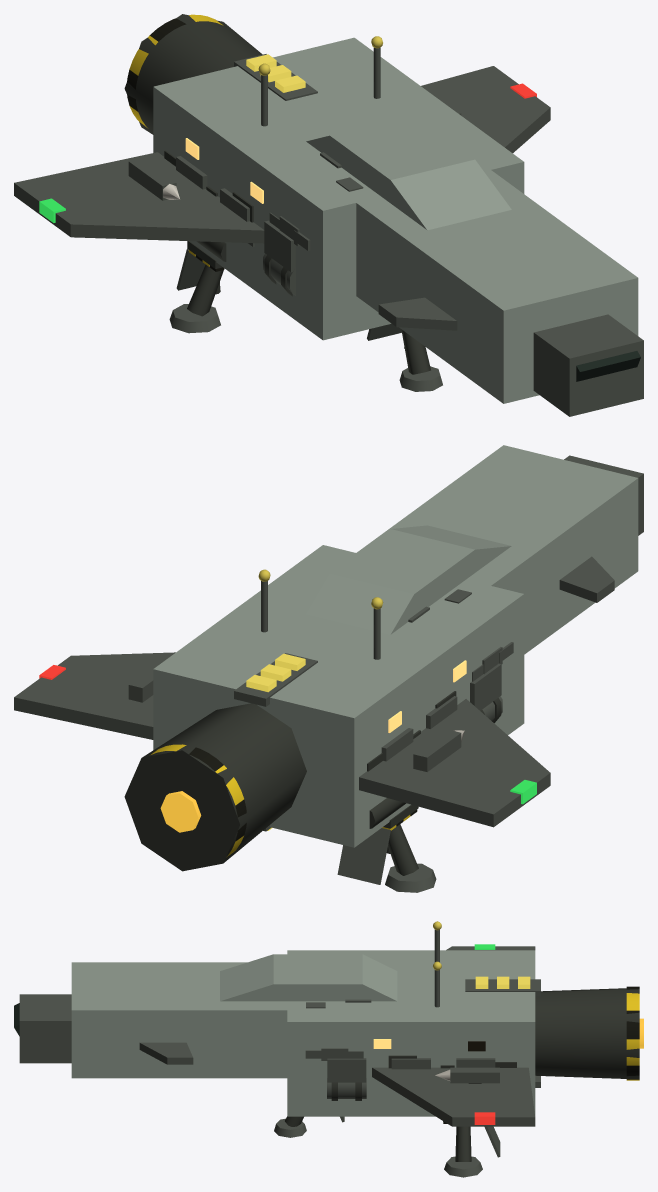
File: trader-s.glb
3 renders of one model, top to bottom at view 1: azimuth 30°, elevation 25°; view 2: azimuth 150°, elevation 25°; view 3: azimuth 270°, elevation 25°, orthographic. The views are drawn at different scales.
Visible parts, largest first — view 1: hullMain, hullNose, wingLeft, canopyFairing, hullNoseTip, engineHousing, wingRight, gearFoot (×2), canardLeft, gearStrut (×2), cockpitGlass, ventGreeble2L (+3 smaller); view 2: hullMain, hullNose, engineHousing, canopyFairing, wingLeft, wingRight, gearBayDoor, missileBody (×2), canardLeft, engineGlow, gearFoot, ventGreeble2L (+3 smaller); view 3: hullMain, hullNose, engineHousing, canopyFairing, wingRight, hullNoseTip, gearFoot (×2), ventGreeble2R, canardRight, missileBody, iffPlinthDorsal, gearStrut (+3 smaller).
Boxes of the visible parts, left/top/right/bottom form: hullMain: left=153, top=37, right=524, bottom=340; hullNose: left=345, top=170, right=638, bottom=403; wingLeft: left=14, top=152, right=264, bottom=243; canopyFairing: left=306, top=115, right=511, bottom=230; hullNoseTip: left=533, top=314, right=643, bottom=416; engineHousing: left=124, top=14, right=262, bottom=134; wingRight: left=421, top=66, right=550, bottom=153; gearFoot (×2): left=169, top=304, right=442, bottom=391; canardLeft: left=378, top=297, right=457, bottom=330; gearStrut (×2): left=187, top=264, right=430, bottom=374; cockpitGlass: left=576, top=351, right=640, bottom=381; ventGreeble2L: left=264, top=220, right=295, bottom=272; hullMain: left=153, top=545, right=524, bottom=847; hullNose: left=356, top=445, right=638, bottom=654; engineHousing: left=124, top=703, right=306, bottom=871; canopyFairing: left=306, top=525, right=511, bottom=634; wingLeft: left=359, top=699, right=550, bottom=827; wingRight: left=14, top=652, right=175, bottom=739; gearBayDoor: left=337, top=828, right=390, bottom=884; missileBody (×2): left=128, top=660, right=461, bottom=771; canardLeft: left=559, top=556, right=614, bottom=602; engineGlow: left=160, top=791, right=201, bottom=832; gearFoot: left=385, top=863, right=436, bottom=892; ventGreeble2L: left=470, top=663, right=501, bottom=710; hullMain: left=287, top=950, right=535, bottom=1116; hullNose: left=71, top=962, right=304, bottom=1078; engineHousing: left=535, top=988, right=639, bottom=1079; canopyFairing: left=220, top=954, right=397, bottom=1001; wingRight: left=372, top=1067, right=535, bottom=1126; hullNoseTip: left=19, top=994, right=71, bottom=1063; gearFoot (×2): left=274, top=1118, right=482, bottom=1177; ventGreeble2R: left=327, top=1058, right=366, bottom=1082; canardRight: left=139, top=1042, right=193, bottom=1064; missileBody: left=450, top=1067, right=499, bottom=1083; iffPlinthDorsal: left=465, top=979, right=540, bottom=996; gearStrut: left=455, top=1126, right=471, bottom=1161.
Bounding box in the file's own units: 3.12 × 1.6 × 4.83.
